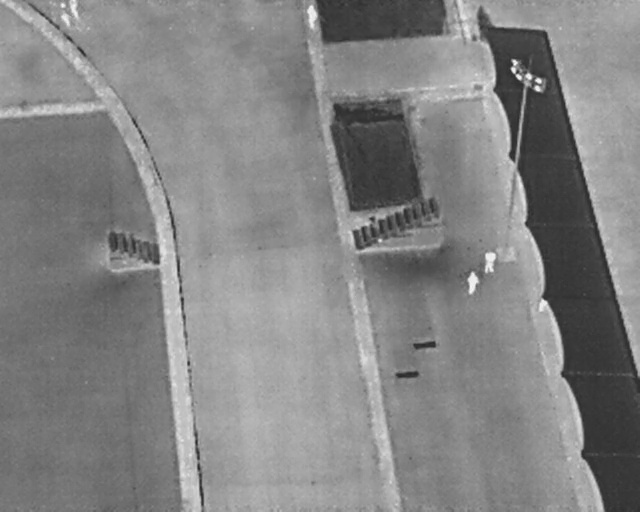Person: (55, 0, 75, 29), (466, 269, 481, 296), (305, 4, 319, 31), (66, 0, 84, 20), (484, 249, 498, 274)
